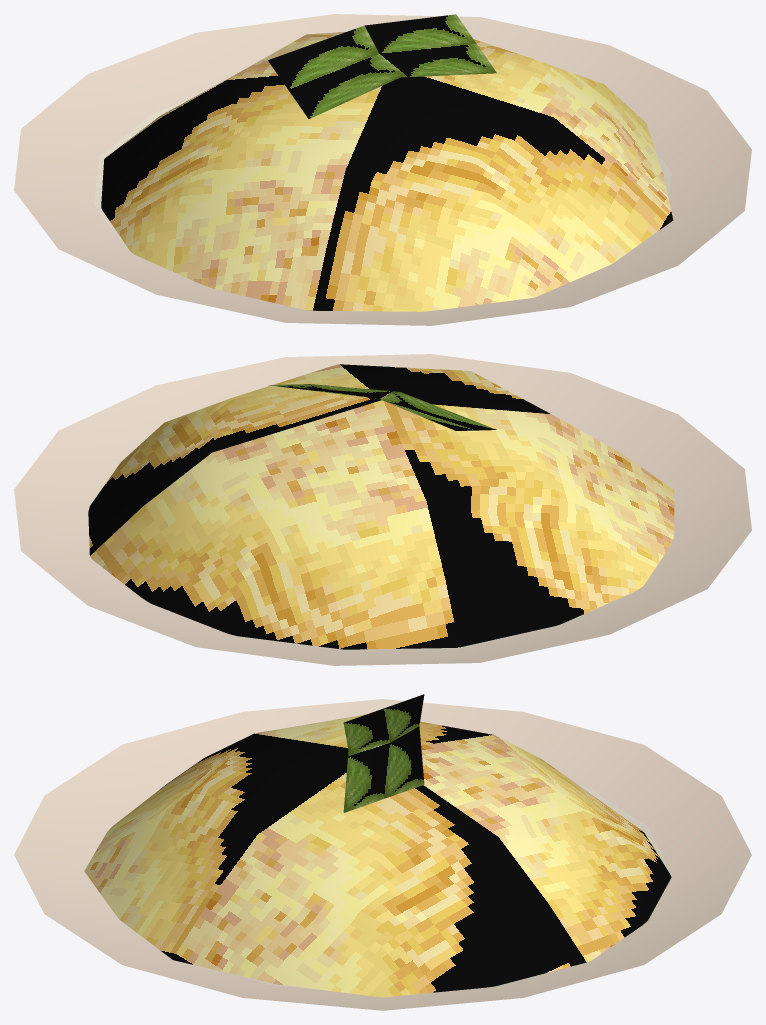
3 renders of one model, top to bottom at view 1: azimuth 30°, elevation 25°; view 2: azimuth 150°, elevation 25°; view 3: azimuth 270°, elevation 25°, orthographic.
Parts seen in each view (by area): view 1: pasta_w; view 2: pasta_w; view 3: pasta_w.
Boxes of the visible parts, box(x1,y1,x2,y2) form: pasta_w: box(14, 14, 751, 325); pasta_w: box(14, 354, 751, 665); pasta_w: box(14, 694, 751, 1010).
Bounding box in the file's own units: 0.8994 × 0.2891 × 0.8994.
Materials: 3 (3 with a texture image).
